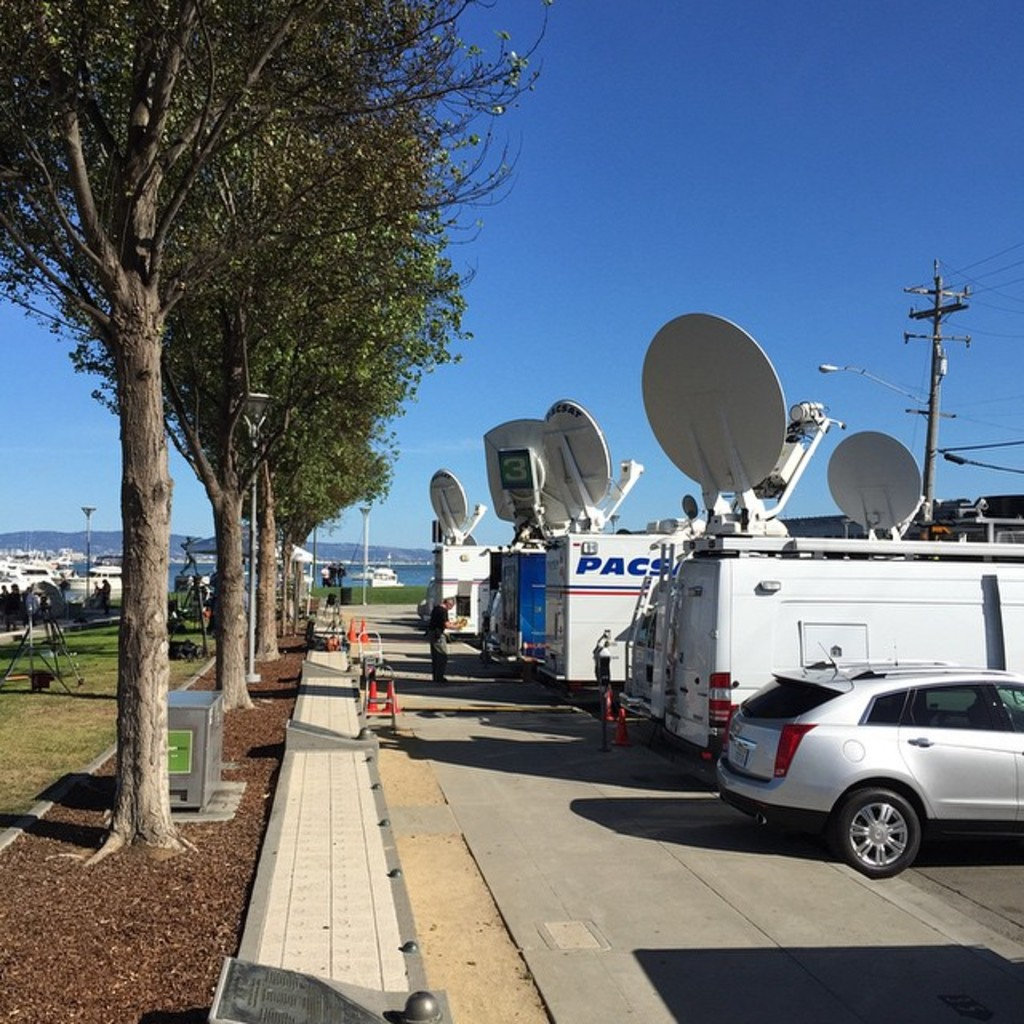Car: (716, 641, 1022, 881)
